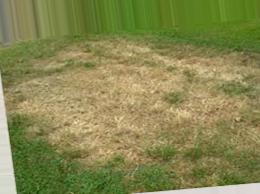patch: (35, 74, 205, 141), (78, 45, 138, 68), (190, 54, 237, 71), (71, 141, 112, 154), (14, 84, 33, 109), (210, 98, 234, 116)
